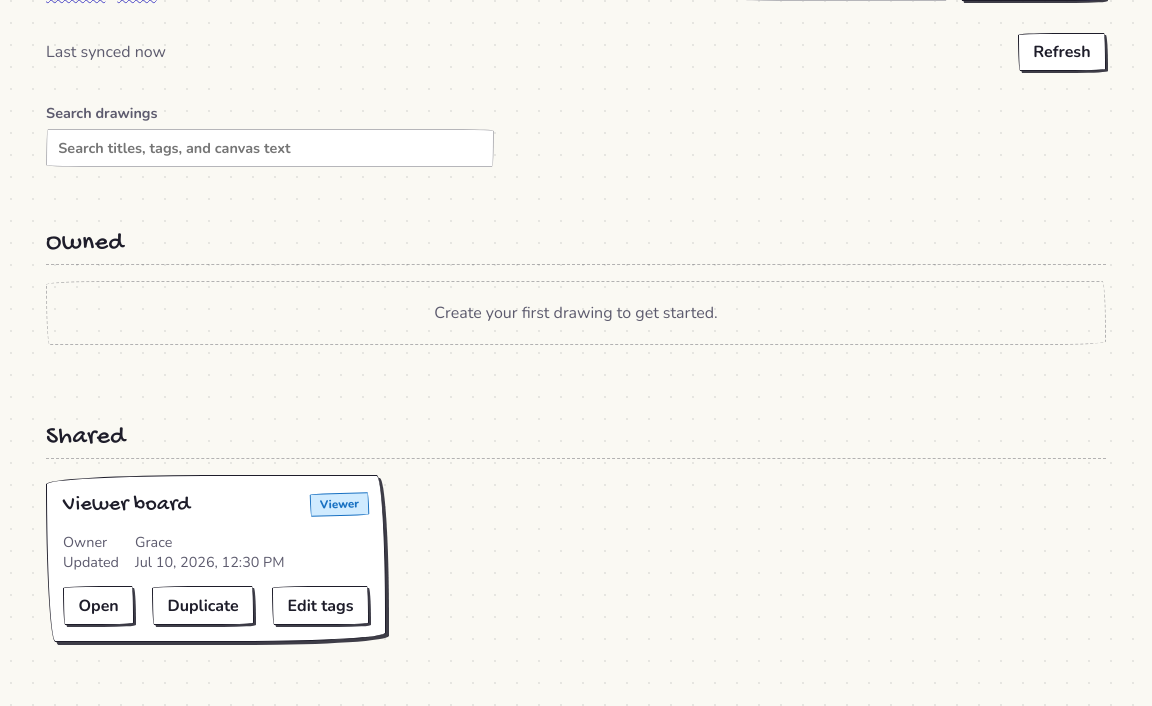
DashboardPage › duplicates any accessible drawing and opens the copy
(page scrolled)
Click the button "Duplicate" at {"x": 203, "y": 606}, box [152,586,254,625]
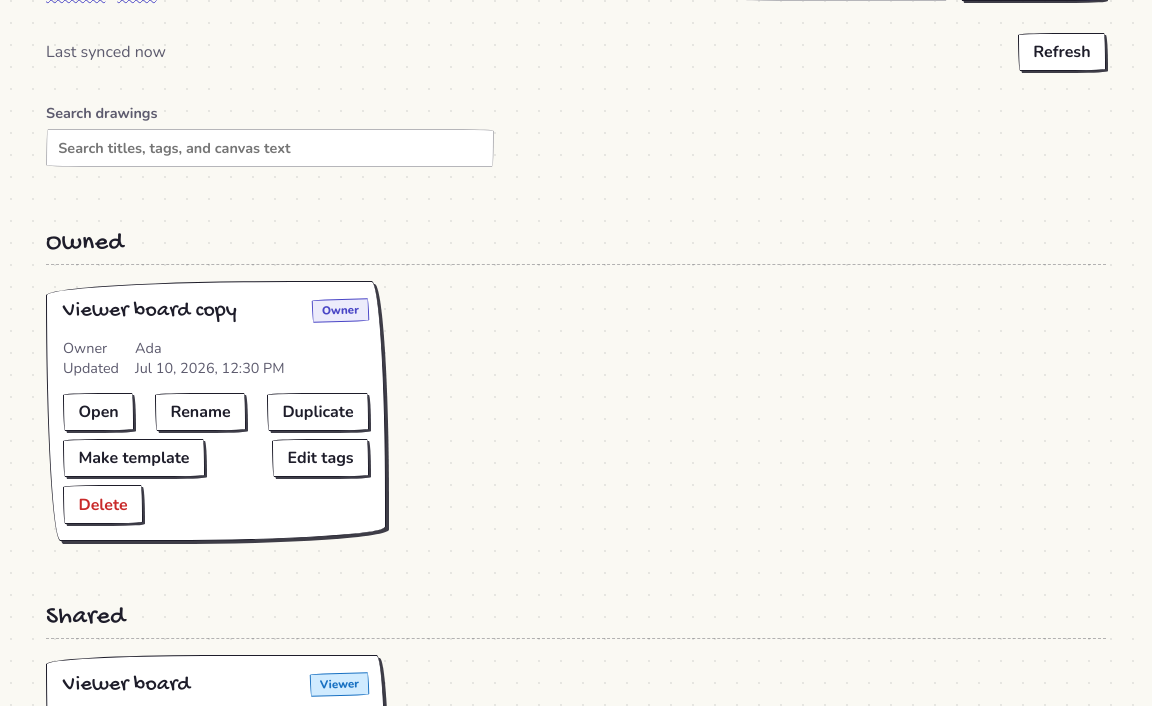
Expected: the heading "Viewer board copy" is shown, [63,298,237,324]
